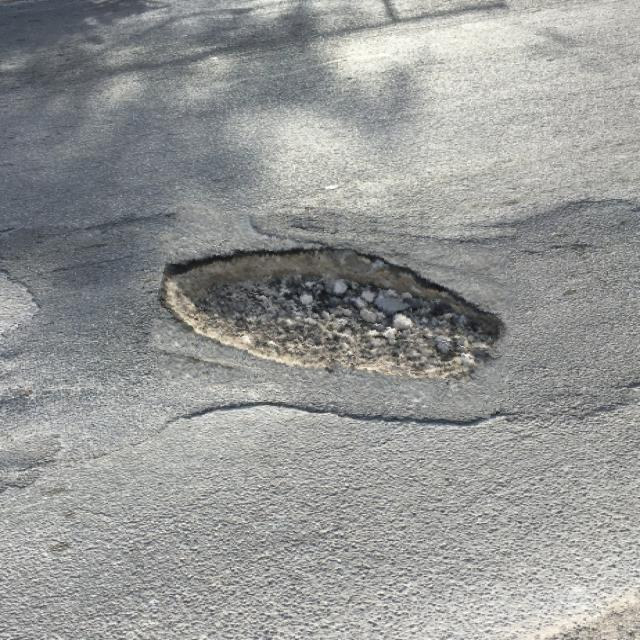Pothole: (154, 215, 516, 402)
